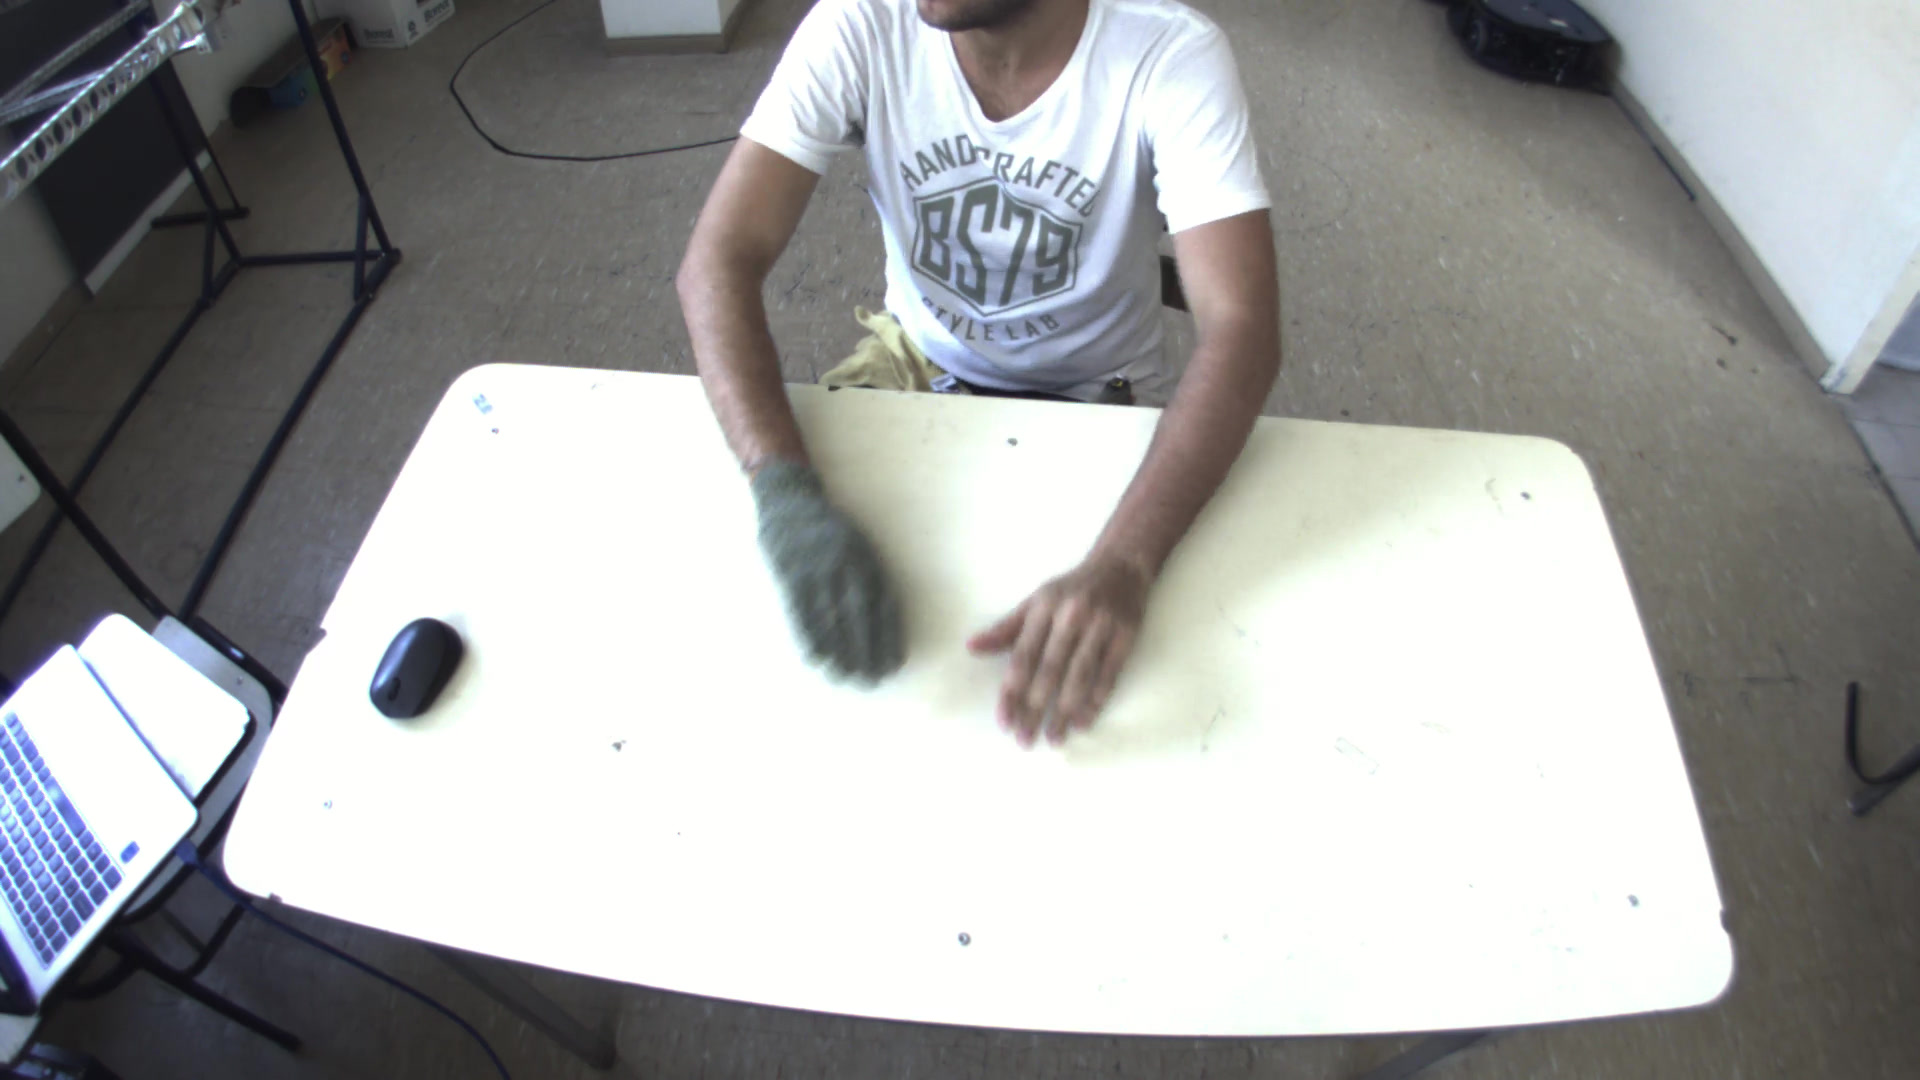hand: (733, 460, 926, 705), (963, 545, 1168, 752)
